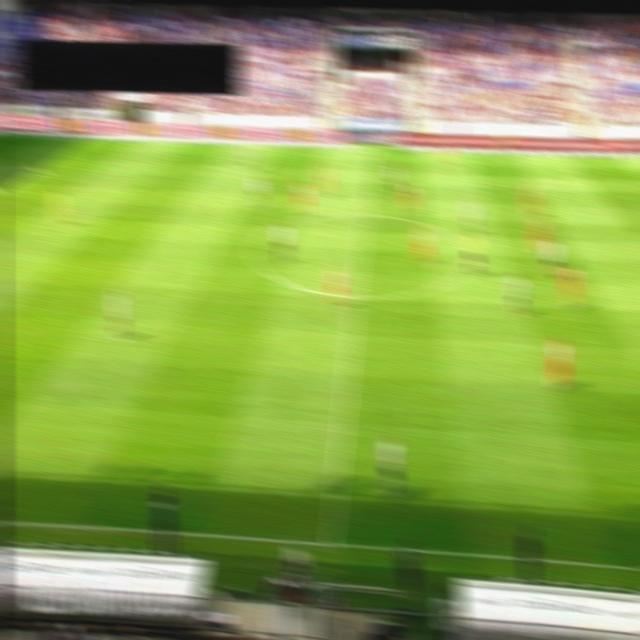bigarea_top_inner: (31, 162, 50, 174)
halfcircle_bottom: (347, 290, 368, 305)
halfcircle_top: (356, 206, 375, 220)
midline_bottom_intersection: (320, 535, 343, 555)
midline_top_intersection: (364, 144, 382, 157)
